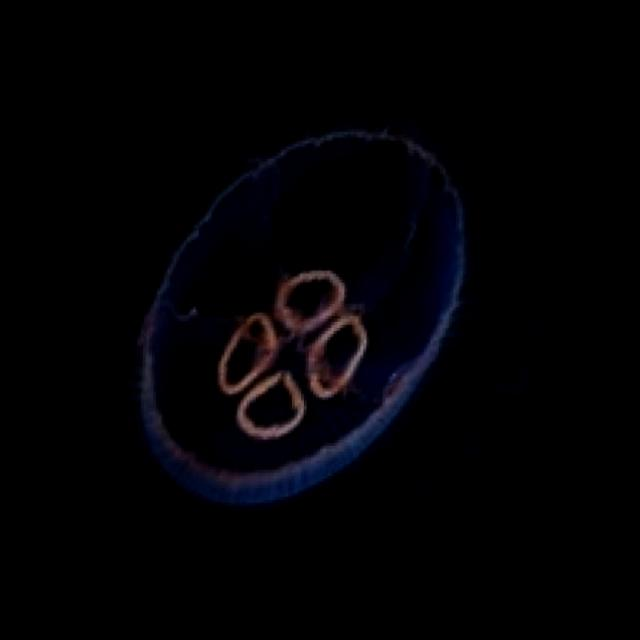Moon-jellyfish: (126, 121, 478, 517)
